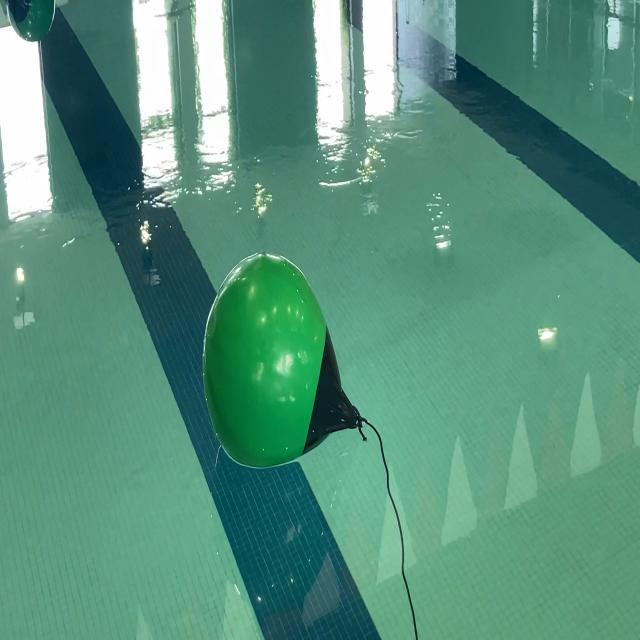buoy: (202, 251, 364, 469)
